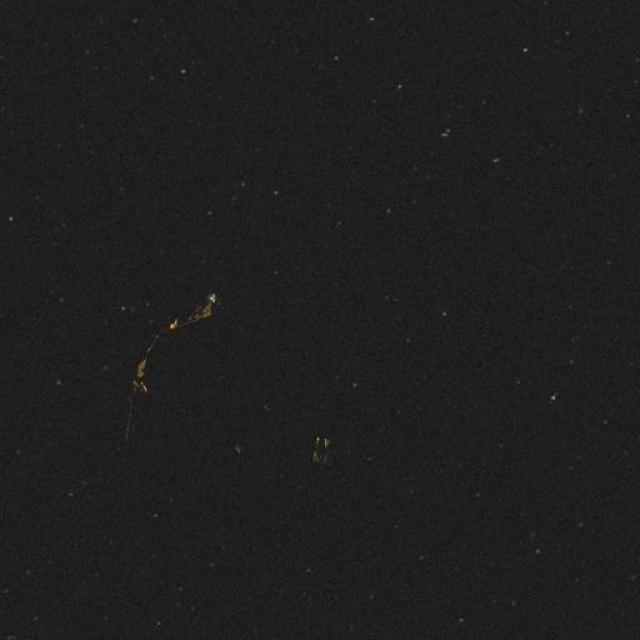lisa_pathfinder: (90, 266, 368, 516)
